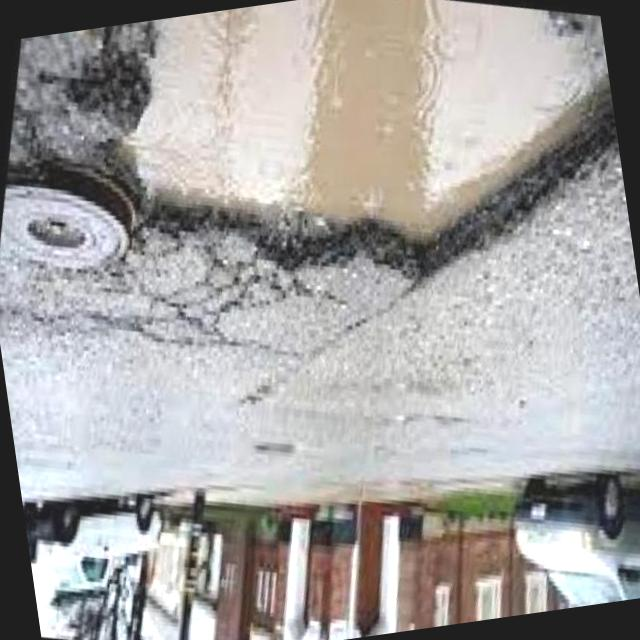Pathole: (21, 0, 615, 269)
